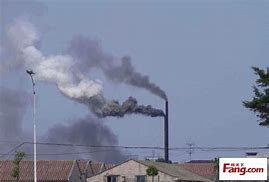smoke: (52, 47, 165, 120)
